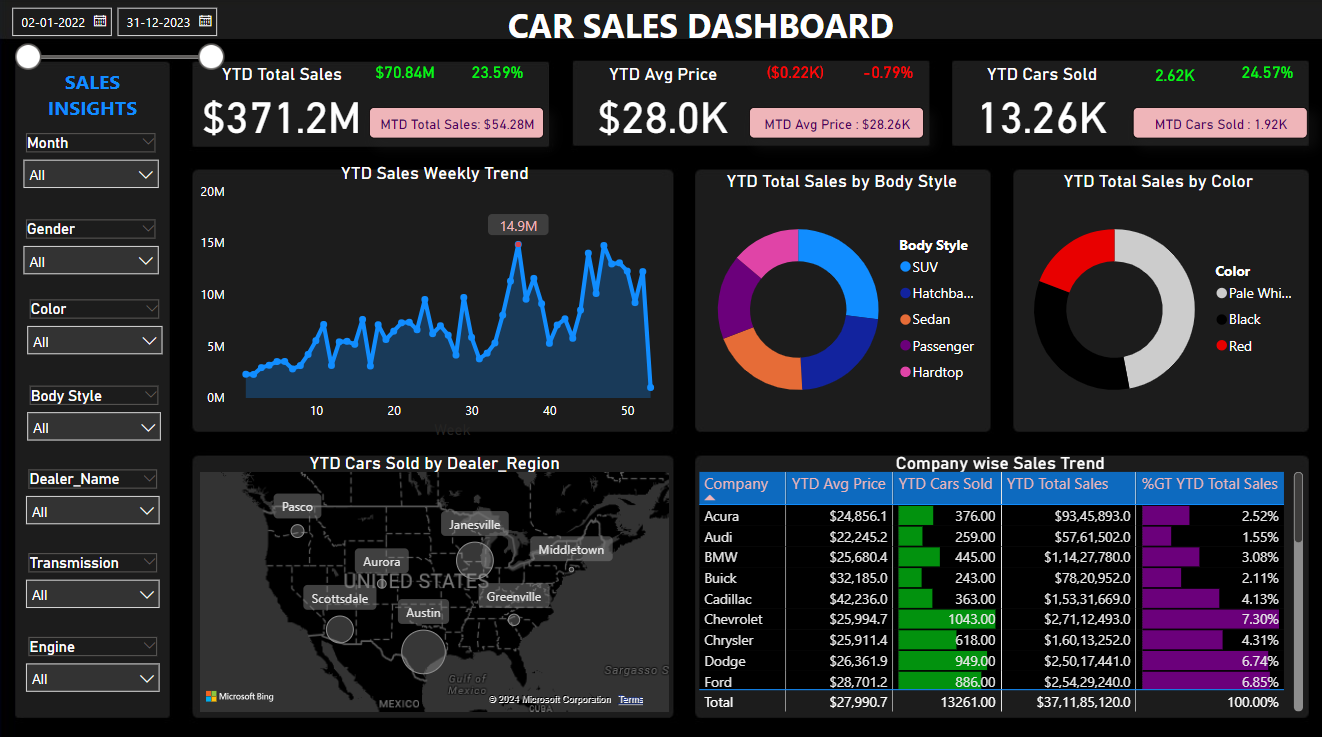

What the dashboard file says about the page in this screenshot:
{"tool":"powerbi","page":{"name":"Page 1","canvas":[1280,720],"ordinal":0},"visuals":[{"type":"card","title":"YTD Total Sales","fields":{"Values":["car_data.YTD Total Sales"]},"box":[189.2,64.4,167.3,80.9],"z":0},{"type":"card","title":"Sales Difference","fields":{"Values":["car_data.Sales Difference"]},"box":[346.9,54.8,89.1,39.8],"z":1000},{"type":"card","title":"Sales Difference","fields":{"Values":["car_data.YoY Sales Growth"]},"box":[436,54.8,89.1,39.8],"z":2000},{"type":"card","fields":{"Values":["car_data.MTD KPI"]},"box":[356.5,105.6,168.6,30.2],"z":3000},{"type":"card","title":"YTD Avg Price","fields":{"Values":["car_data.YTD Avg Price"]},"box":[556.6,64.4,167.3,80.9],"z":4000},{"type":"card","title":"Sales Difference","fields":{"Values":["car_data.Avg Price Diff"]},"box":[723.9,54.8,89.1,39.8],"z":5000},{"type":"card","title":"Sales Difference","fields":{"Values":["car_data.YoY Avg Price Growth"]},"box":[813,54.8,89.1,39.8],"z":6000},{"type":"card","fields":{"Values":["car_data.MTD Avg Price KPI"]},"box":[723.9,105.6,168.6,30.2],"z":7000},{"type":"card","title":"YTD Cars Sold","fields":{"Values":["car_data.YTD Cars Sold"]},"box":[922.7,64.4,167.3,80.9],"z":8000},{"type":"card","title":"Sales Difference","fields":{"Values":["car_data.Cars Difference"]},"box":[1090,56.2,89.1,39.8],"z":9000},{"type":"card","title":"Sales Difference","fields":{"Values":["car_data.Cars Growth"]},"box":[1179.1,54.8,89.1,39.8],"z":10000},{"type":"card","fields":{"Values":["car_data.MTD Cars Sold KPI"]},"box":[1094.1,105.6,168.6,30.2],"z":11000},{"type":"areaChart","title":"YTD Sales Weekly Trend","fields":{"Category":["Calender Table.Week"],"Y":["Sum(car_data.Price ($))","car_data.Max Point on AC"]},"box":[189.2,159,462,271.5],"z":12000},{"type":"donutChart","fields":{"Category":["car_data.Body Style"],"Y":["car_data.YTD Total Sales"]},"box":[669.1,167.3,287.9,253.6],"z":13000},{"type":"donutChart","fields":{"Y":["car_data.YTD Total Sales"],"Category":["car_data.Color"]},"box":[974.8,167.3,287.9,253.6],"z":14000},{"type":"map","fields":{"Category":["car_data.Dealer_Region"],"Size":["car_data.YTD Cars Sold"]},"box":[189.2,438.7,462,255],"z":15000},{"type":"tableEx","title":"Company wise Sales Trend","fields":{"Values":["car_data.Company","car_data.YTD Avg Price","car_data.YTD Cars Sold","car_data.YTD Total Sales1","car_data.YTD Total Sales"]},"box":[669.1,438.7,593.7,255],"z":16000},{"type":"slicer","fields":{"Values":["car_data.Body Style"]},"box":[16.5,370.2,149.4,80.9],"z":17000},{"type":"slicer","fields":{"Values":["car_data.Dealer_Name"]},"box":[15.1,451.1,149.4,80.9],"z":18000},{"type":"slicer","fields":{"Values":["car_data.Transmission"]},"box":[15.1,532,149.4,80.9],"z":19000},{"type":"slicer","fields":{"Values":["car_data.Engine"]},"box":[15.1,612.9,149.4,80.9],"z":20000},{"type":"textbox","box":[346.9,0,659.5,54.8],"z":21000},{"type":"slicer","fields":{"Values":["car_data.Gender"]},"box":[13.7,209.8,150.8,79.5],"z":22000},{"type":"slicer","fields":{"Values":["car_data.Color"]},"box":[16.5,286.5,150.8,83.6],"z":23000},{"type":"textbox","box":[15.1,64.4,149.4,60.3],"z":24000},{"type":"slicer","fields":{"Values":["Calender Table.Month"]},"box":[13.7,126.1,150.8,83.6],"z":25000},{"type":"slicer","fields":{"Values":["Calender Table.Date"]},"box":[0,0,226.2,75.4],"z":25001}]}

Visuals, with their boxes in screenshot pixels (x1, y1, x2, y2), scaled from the page's 1280x720 canvas onto the 1322x737 screenshot:
"YTD Total Sales" card: {"x1": 195, "y1": 66, "x2": 368, "y2": 149}
"Sales Difference" card: {"x1": 358, "y1": 56, "x2": 450, "y2": 97}
"Sales Difference" card: {"x1": 450, "y1": 56, "x2": 542, "y2": 97}
card - car_data.MTD KPI: {"x1": 368, "y1": 108, "x2": 542, "y2": 139}
"YTD Avg Price" card: {"x1": 575, "y1": 66, "x2": 748, "y2": 149}
"Sales Difference" card: {"x1": 748, "y1": 56, "x2": 840, "y2": 97}
"Sales Difference" card: {"x1": 840, "y1": 56, "x2": 932, "y2": 97}
card - car_data.MTD Avg Price KPI: {"x1": 748, "y1": 108, "x2": 922, "y2": 139}
"YTD Cars Sold" card: {"x1": 953, "y1": 66, "x2": 1126, "y2": 149}
"Sales Difference" card: {"x1": 1126, "y1": 58, "x2": 1218, "y2": 98}
"Sales Difference" card: {"x1": 1218, "y1": 56, "x2": 1310, "y2": 97}
card - car_data.MTD Cars Sold KPI: {"x1": 1130, "y1": 108, "x2": 1304, "y2": 139}
"YTD Sales Weekly Trend" areaChart: {"x1": 195, "y1": 163, "x2": 673, "y2": 441}
donutChart - car_data.Body Style x car_data.YTD Total Sales: {"x1": 691, "y1": 171, "x2": 988, "y2": 431}
donutChart - car_data.YTD Total Sales x car_data.Color: {"x1": 1007, "y1": 171, "x2": 1304, "y2": 431}
map - car_data.Dealer_Region x car_data.YTD Cars Sold: {"x1": 195, "y1": 449, "x2": 673, "y2": 710}
"Company wise Sales Trend" tableEx: {"x1": 691, "y1": 449, "x2": 1304, "y2": 710}
slicer - car_data.Body Style: {"x1": 17, "y1": 379, "x2": 171, "y2": 462}
slicer - car_data.Dealer_Name: {"x1": 16, "y1": 462, "x2": 170, "y2": 545}
slicer - car_data.Transmission: {"x1": 16, "y1": 545, "x2": 170, "y2": 627}
slicer - car_data.Engine: {"x1": 16, "y1": 627, "x2": 170, "y2": 710}
textbox: {"x1": 358, "y1": 0, "x2": 1039, "y2": 56}
slicer - car_data.Gender: {"x1": 14, "y1": 215, "x2": 170, "y2": 296}
slicer - car_data.Color: {"x1": 17, "y1": 293, "x2": 173, "y2": 379}
textbox: {"x1": 16, "y1": 66, "x2": 170, "y2": 128}
slicer - Calender Table.Month: {"x1": 14, "y1": 129, "x2": 170, "y2": 215}
slicer - Calender Table.Date: {"x1": 0, "y1": 0, "x2": 234, "y2": 77}
